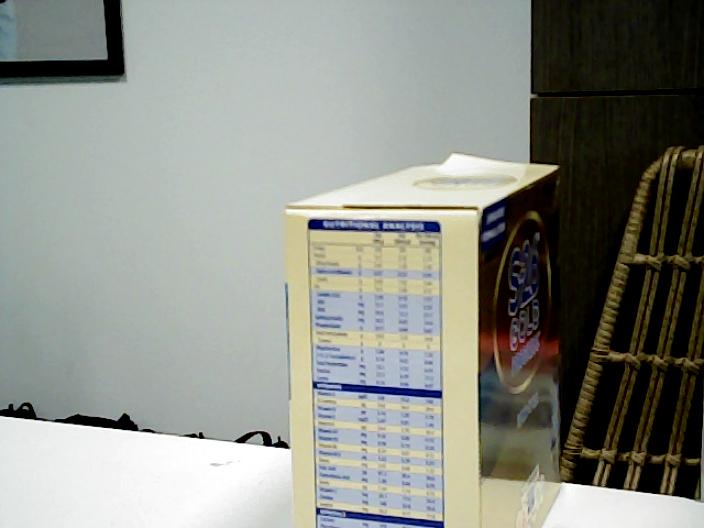Babymilk-powder_200-299g_Halal_NonHealthy: (285, 168, 567, 528)
